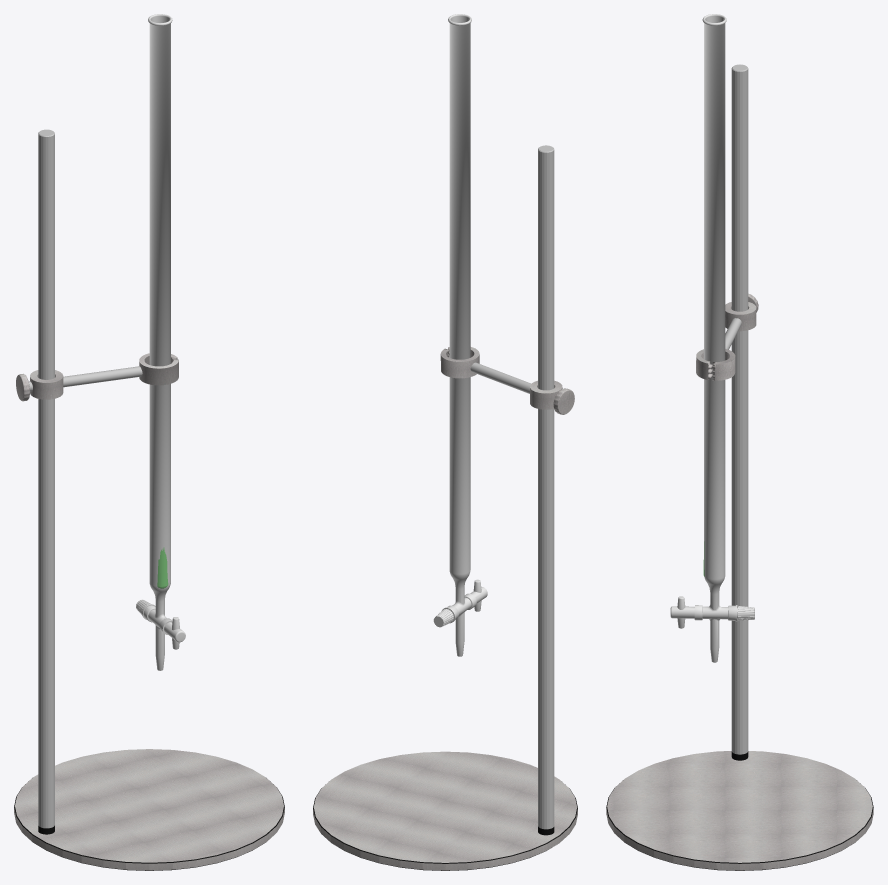
Rendered from bureta.fbx.
3 renders of one model, left to right at view 1: azimuth 30°, elevation 25°; view 2: azimuth 150°, elevation 25°; view 3: azimuth 270°, elevation 25°, orthographic. The views are drawn at different scales.
Visible parts, largest first — view 1: Base, 5354029, Poste, holder; view 2: Base, 5354029, Poste, holder; view 3: Base, 5354029, Poste, holder.
Boxes of the visible parts, x1,y1,x2,y2 form: Base: [14, 749, 284, 870]; 5354029: [136, 14, 185, 670]; Poste: [38, 129, 54, 834]; holder: [16, 353, 178, 401]; Base: [313, 751, 577, 870]; 5354029: [433, 14, 487, 656]; Poste: [538, 145, 554, 835]; holder: [440, 347, 574, 414]; Base: [606, 751, 873, 870]; 5354029: [670, 14, 754, 662]; Poste: [731, 64, 748, 760]; holder: [696, 293, 758, 380].
Bounding box in the file's own units: 0.1843 × 0.5762 × 0.1755.
Materials: 4 (1 with a texture image).
